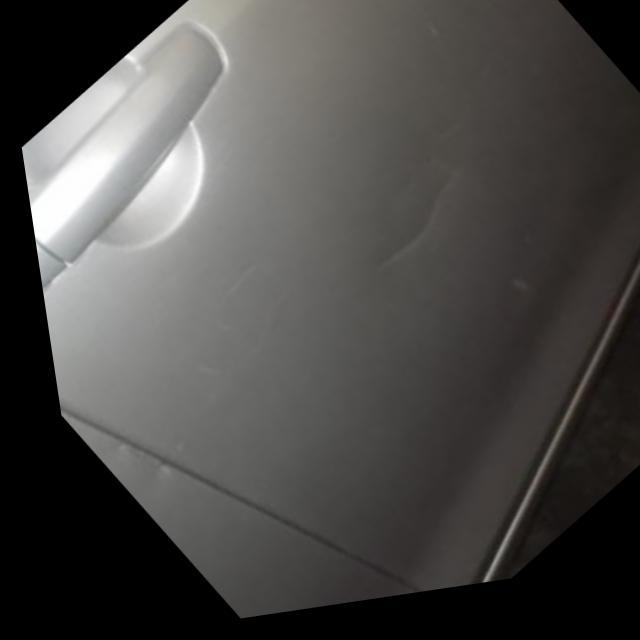dent: (366, 162, 462, 290), (88, 429, 181, 494)
